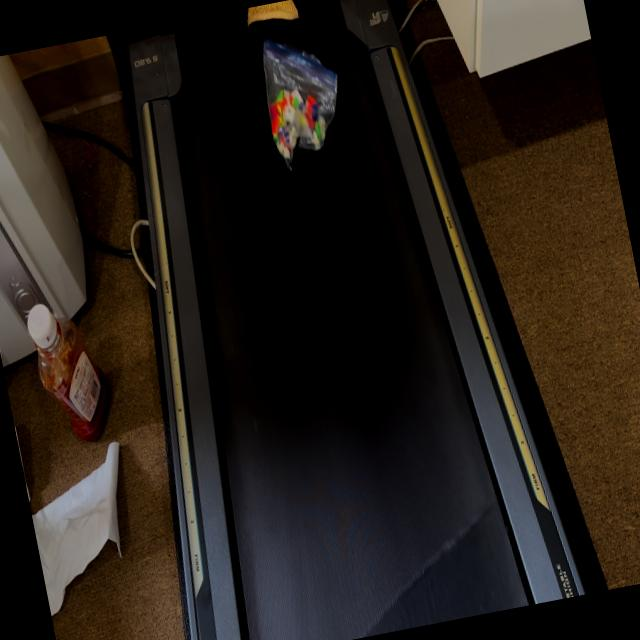Trash: (256, 24, 356, 174), (242, 0, 300, 32)
